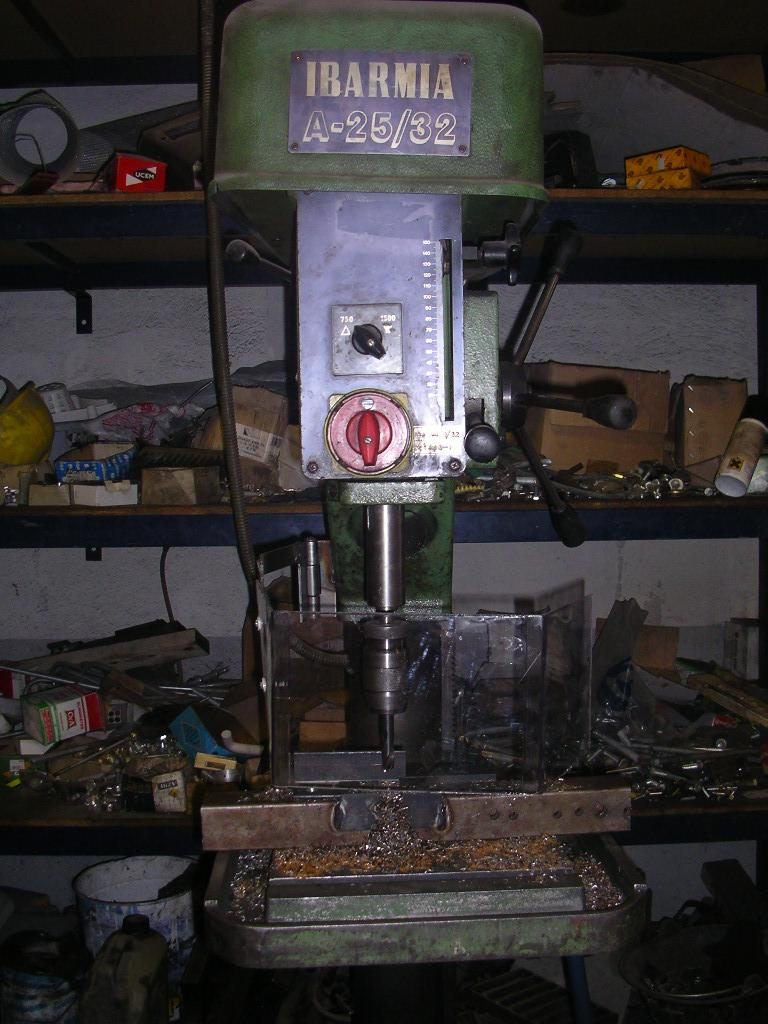falta_resguardo: (357, 494, 414, 773)
sin_senalizacion_riesgos: (318, 197, 416, 282)
